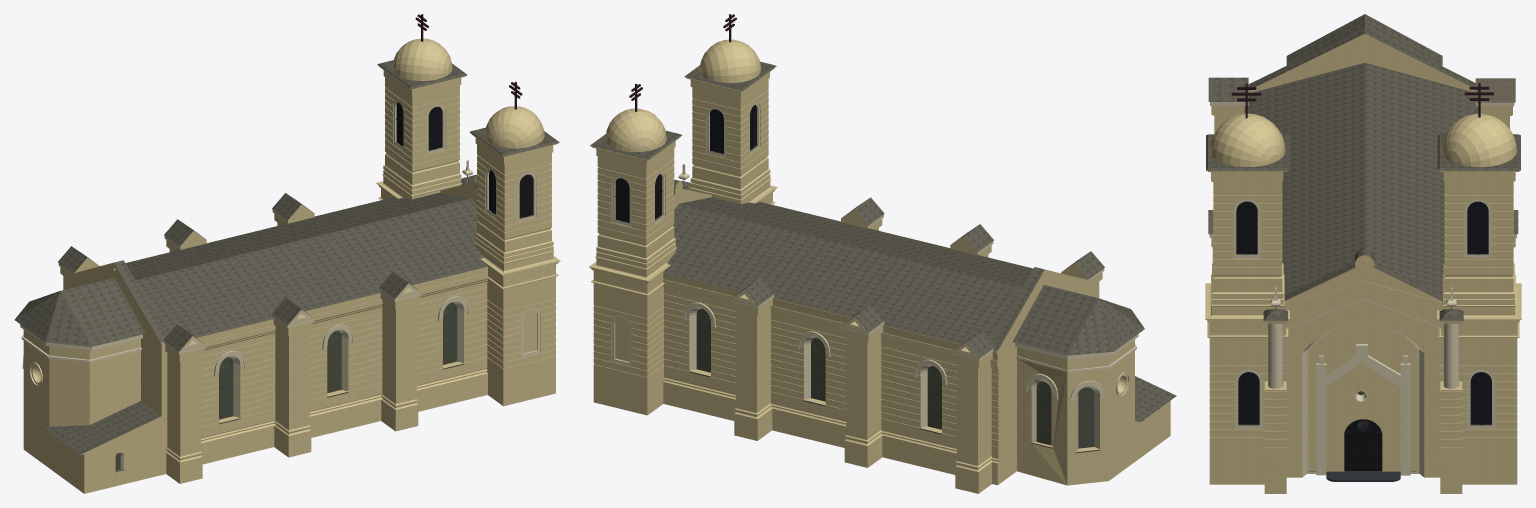
Rendered from kostol.glb.
3 views of the same model, side by side, from view 1: azimuth 30°, elevation 25°; view 2: azimuth 150°, elevation 25°; view 3: azimuth 270°, elevation 25° (orthographic). The views are drawn at different scales.
Parts seen in each view (by area): view 1: _(Loose Entity), C-c1.005, C-c1.004, C-c1; view 2: _(Loose Entity), C-c1.003, C-c1.001, C-c1.002; view 3: _(Loose Entity), G-Object.001, G-Object.
Part boxes in pixels (<box>): _(Loose Entity): <box>14,38,560,493</box>; C-c1.005: <box>322,324,354,397</box>; C-c1.004: <box>214,351,245,424</box>; C-c1: <box>438,296,469,369</box>; _(Loose Entity): <box>589,39,1176,493</box>; C-c1.003: <box>683,302,716,377</box>; C-c1.001: <box>914,359,947,434</box>; C-c1.002: <box>798,331,830,406</box>; _(Loose Entity): <box>1205,14,1521,484</box>; G-Object.001: <box>1263,287,1287,493</box>; G-Object: <box>1439,287,1463,493</box>.
Bounding box in the file's own units: 5.52 × 3.37 × 2.51.
14 materials, 12 textured.
